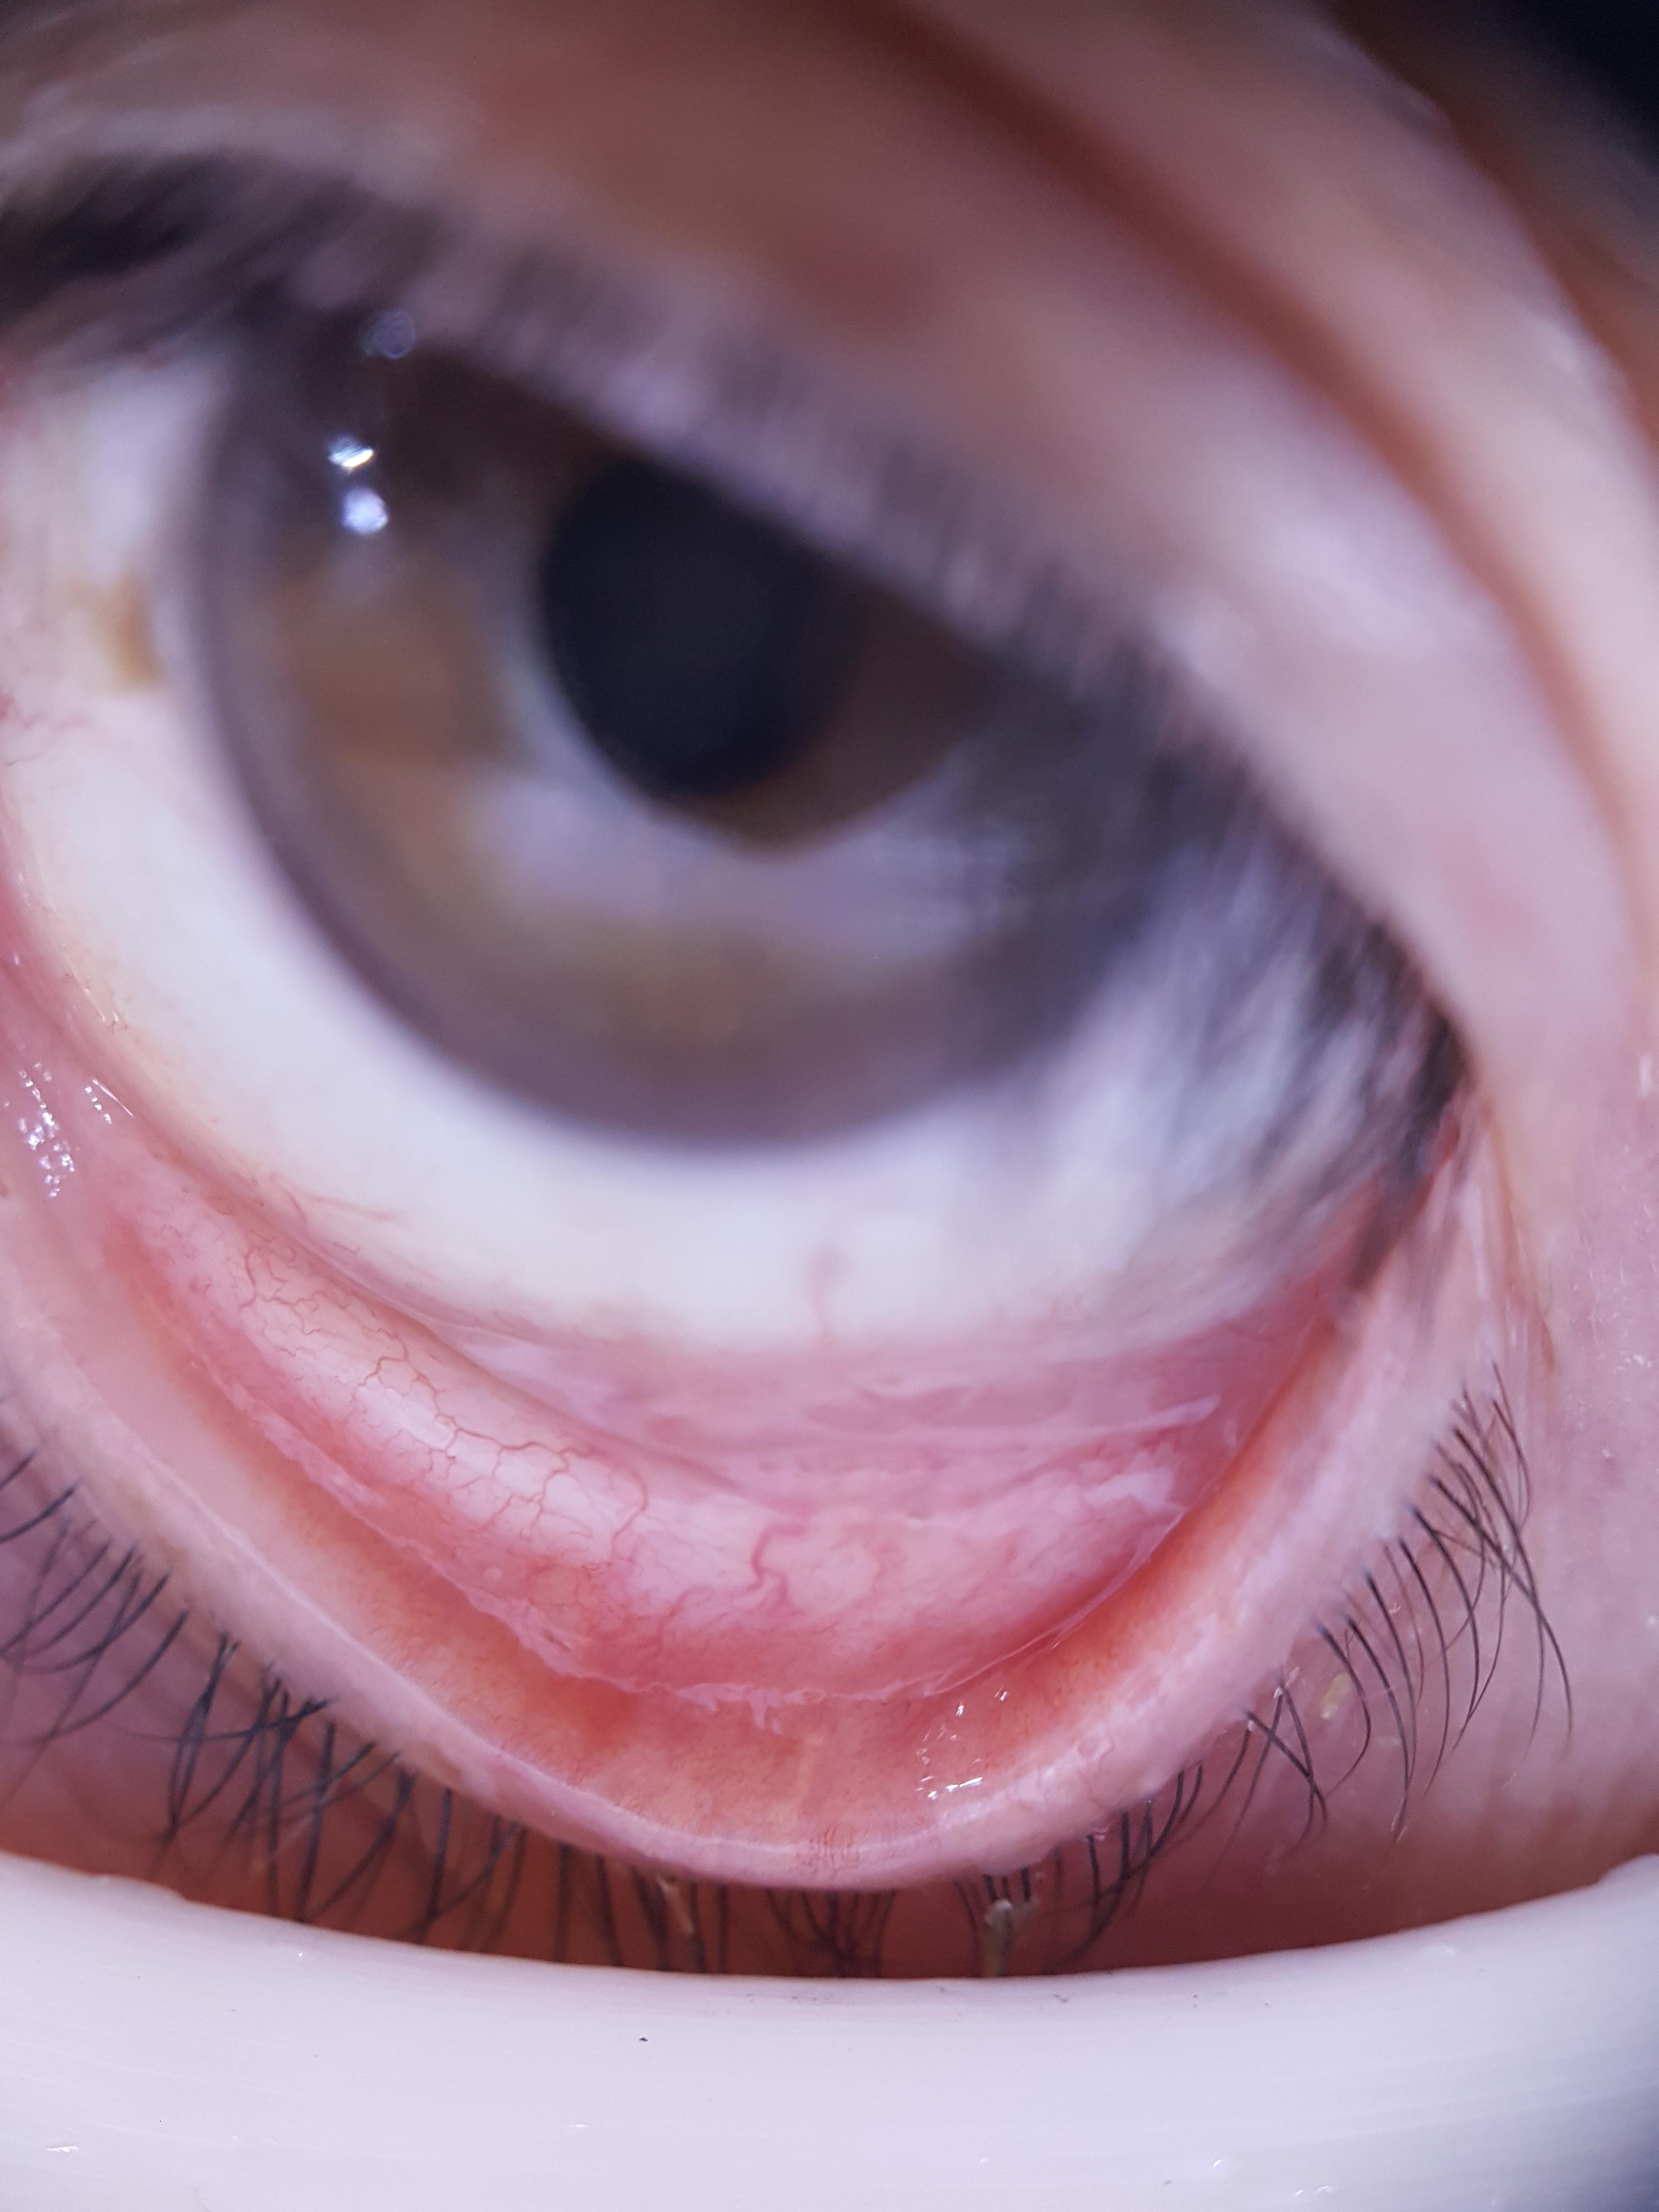forniceal: (0, 977, 1344, 1632)
forniceal_palpebral: (14, 984, 1340, 1777)
palpebral: (7, 984, 1340, 1771)
